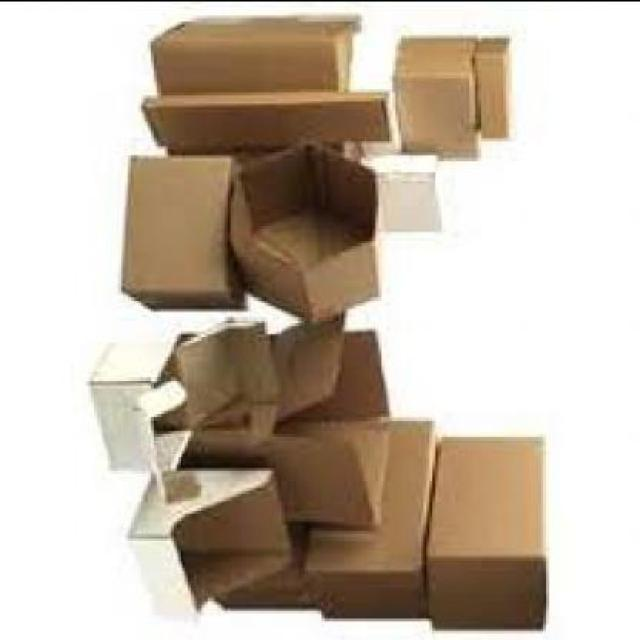CARDBOARD: (182, 308, 392, 523), (90, 310, 282, 467), (225, 134, 389, 315), (308, 414, 443, 618), (426, 432, 549, 626), (130, 464, 293, 605), (128, 153, 245, 310), (151, 14, 366, 91), (146, 86, 394, 146), (394, 34, 484, 154), (379, 150, 443, 228), (476, 35, 512, 133)
